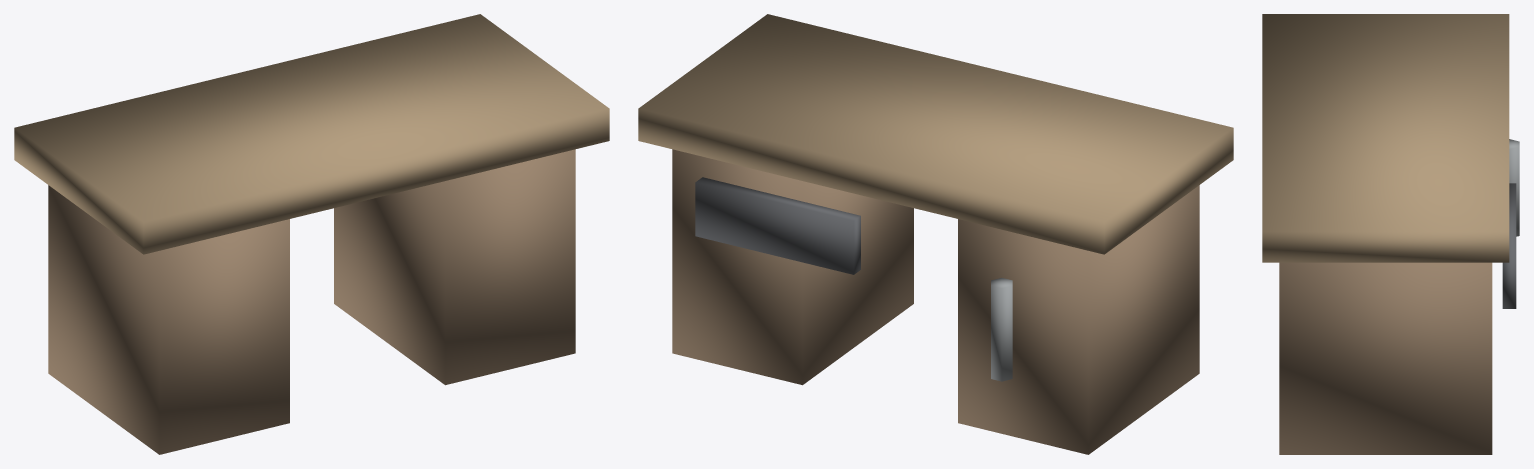
File: teacher_desk__service.glb
The picture shows the model from 3 angles, left to right: view 1: azimuth 30°, elevation 25°; view 2: azimuth 150°, elevation 25°; view 3: azimuth 270°, elevation 25°; orthographic projection. The views are drawn at different scales.
Visible parts, largest first — view 1: world; view 2: world; view 3: world.
Boxes of the visible parts, x1=… form: world: x1=14, y1=14, x2=609, y2=454; world: x1=638, y1=14, x2=1233, y2=454; world: x1=1262, y1=14, x2=1519, y2=454.
Size of the model in its own units: 1.5 by 0.755 by 0.7503.
